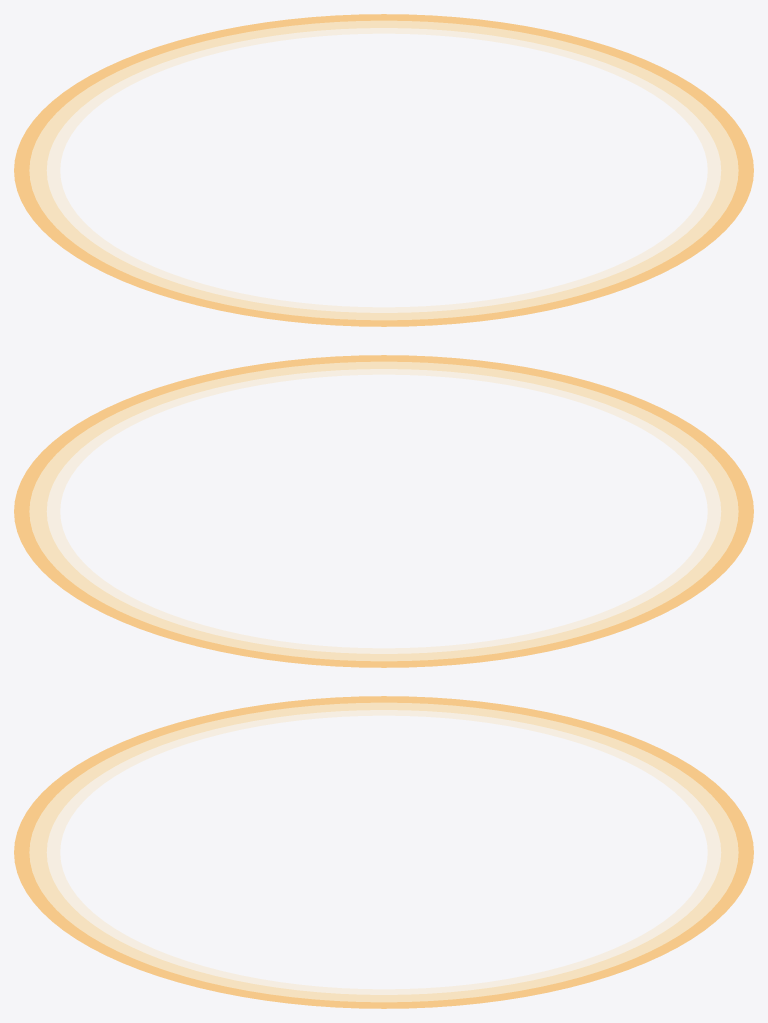
File: gargantua_photon_ring.glb
3 renders of one model, top to bottom at view 1: azimuth 30°, elevation 25°; view 2: azimuth 150°, elevation 25°; view 3: azimuth 270°, elevation 25°, orthographic.
Visible parts, largest first — view 1: gargantua_photon_ring; view 2: gargantua_photon_ring; view 3: gargantua_photon_ring.
Part boxes in pixels (x1=…): gargantua_photon_ring: x1=14, y1=14, x2=753, y2=326; gargantua_photon_ring: x1=14, y1=355, x2=753, y2=667; gargantua_photon_ring: x1=14, y1=696, x2=753, y2=1008.
Size of the model in its own units: 3.84 by 0 by 3.84.
